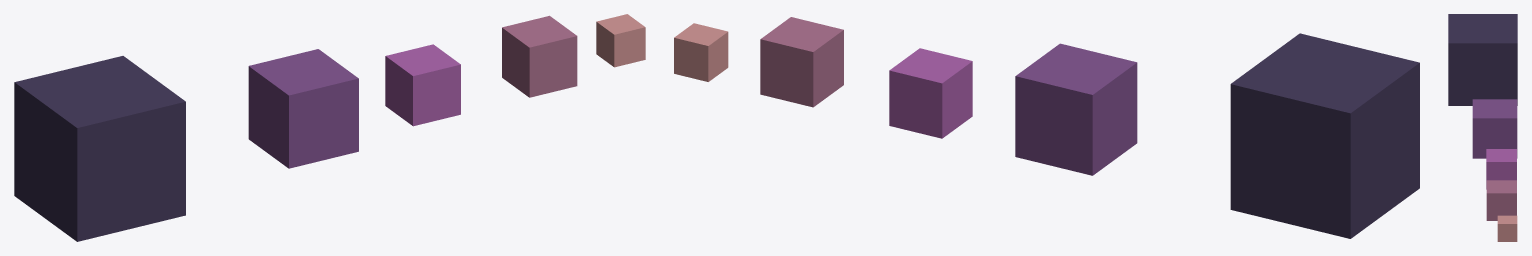
Rendered from Box Size Reference.fbx.
The picture shows the model from 3 angles, left to right: view 1: azimuth 30°, elevation 25°; view 2: azimuth 150°, elevation 25°; view 3: azimuth 270°, elevation 25°; orthographic projection. The views are drawn at different scales.
Parts seen in each view (by area): view 1: Elephant_Box_Ref, Zebra_Box_Ref, Poodle_Box_Ref, AntEater_Box_Ref, Loris_Box_Ref; view 2: Elephant_Box_Ref, Zebra_Box_Ref, Poodle_Box_Ref, AntEater_Box_Ref, Loris_Box_Ref; view 3: Elephant_Box_Ref, Zebra_Box_Ref, Poodle_Box_Ref, AntEater_Box_Ref, Loris_Box_Ref.
Boxes of the visible parts, bbox=[...] form: Elephant_Box_Ref: bbox=[14, 56, 185, 241]; Zebra_Box_Ref: bbox=[248, 49, 358, 168]; Poodle_Box_Ref: bbox=[502, 15, 577, 97]; AntEater_Box_Ref: bbox=[385, 44, 460, 126]; Loris_Box_Ref: bbox=[596, 14, 645, 67]; Elephant_Box_Ref: bbox=[1230, 33, 1419, 238]; Zebra_Box_Ref: bbox=[1015, 43, 1137, 175]; Poodle_Box_Ref: bbox=[760, 17, 843, 107]; AntEater_Box_Ref: bbox=[889, 48, 972, 138]; Loris_Box_Ref: bbox=[674, 23, 728, 81]; Elephant_Box_Ref: bbox=[1448, 14, 1517, 105]; Zebra_Box_Ref: bbox=[1472, 99, 1517, 158]; Poodle_Box_Ref: bbox=[1486, 180, 1516, 220]; AntEater_Box_Ref: bbox=[1486, 149, 1516, 189]; Loris_Box_Ref: bbox=[1497, 215, 1517, 241].
Bounding box in the file's own units: 878 × 156 × 156.
